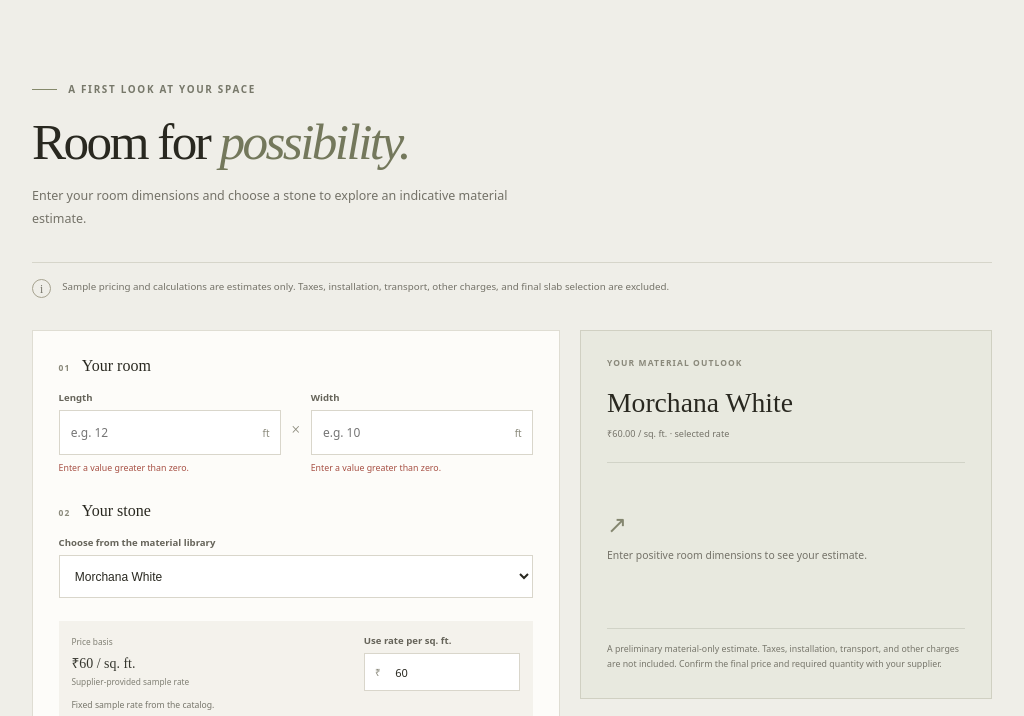
stone discovery dashboard › estimates room material cost from catalog stones and selected range rates
(page scrolled)
Expected: the text "Enter positive room dimensions to see your estimate." is shown, 607,547 -> 867,564
Type "12" into the number field named "Room length in feet" at (156, 433), box 60,411 -> 252,454
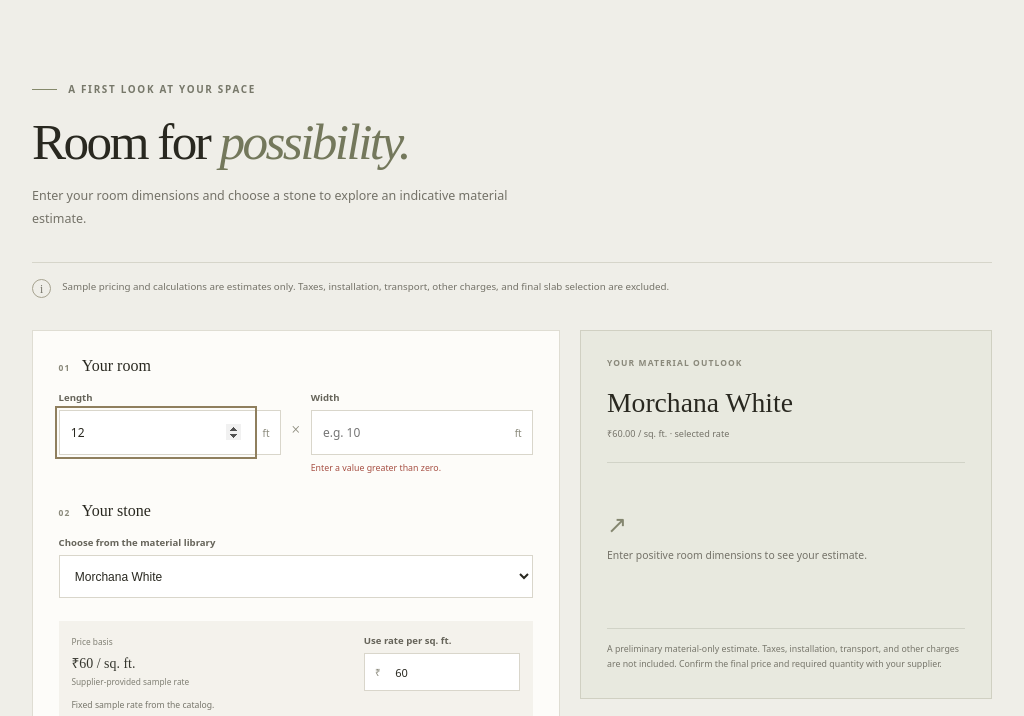
Type "10" into the number field named "Room width in feet" at (408, 433), box 312,411 -> 504,454
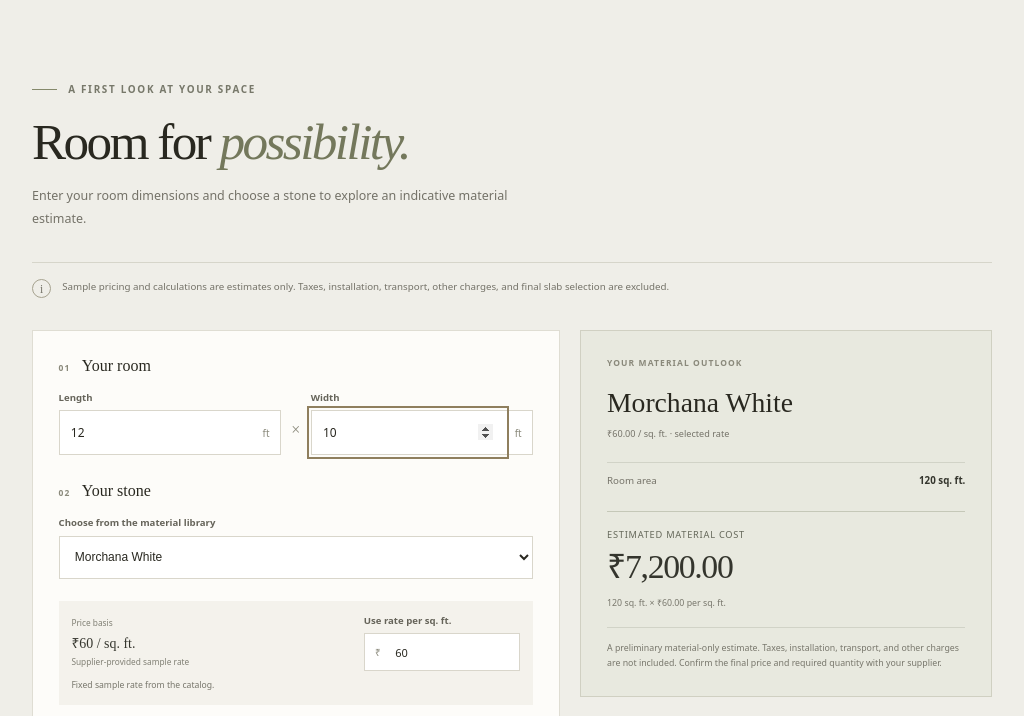
Expected: the element named "Room estimate result" shows "120 sq. ft.", 580,330 -> 992,697
Expected: the element named "Room estimate result" shows "₹7,200", 607,548 -> 732,585
Select "Rajnagar White" in the dropdown named "Stone for room estimate" at (296, 557), box 59,536 -> 533,578
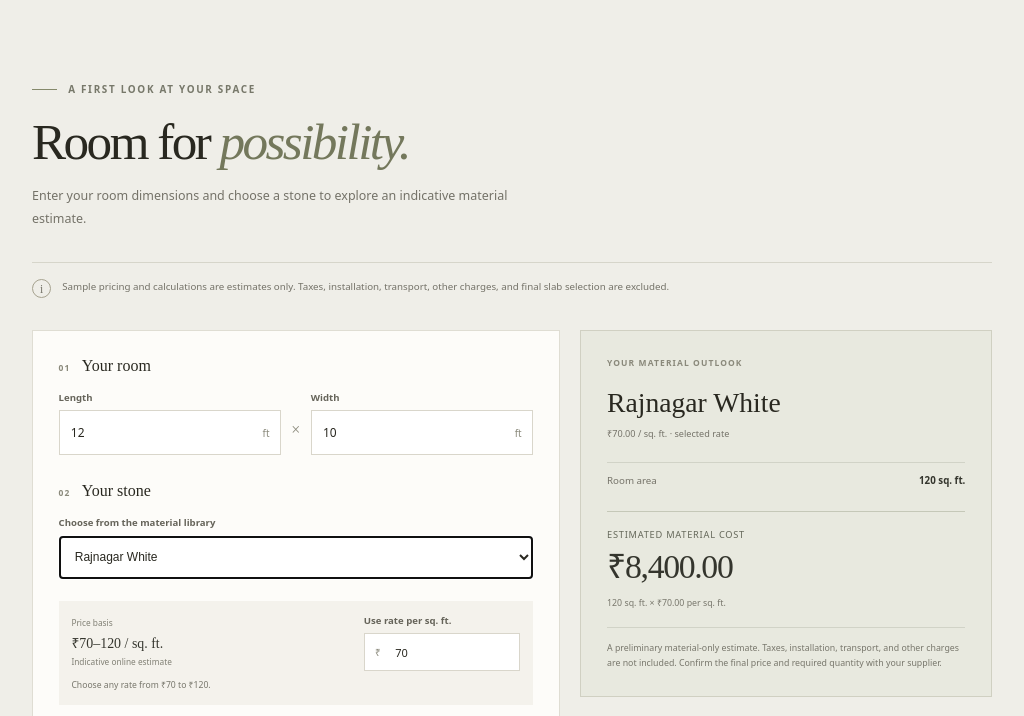
Replace the text in the number field named "Selected rate per square foot" with "100" at (455, 652), box 391,634 -> 519,670
(page scrolled)
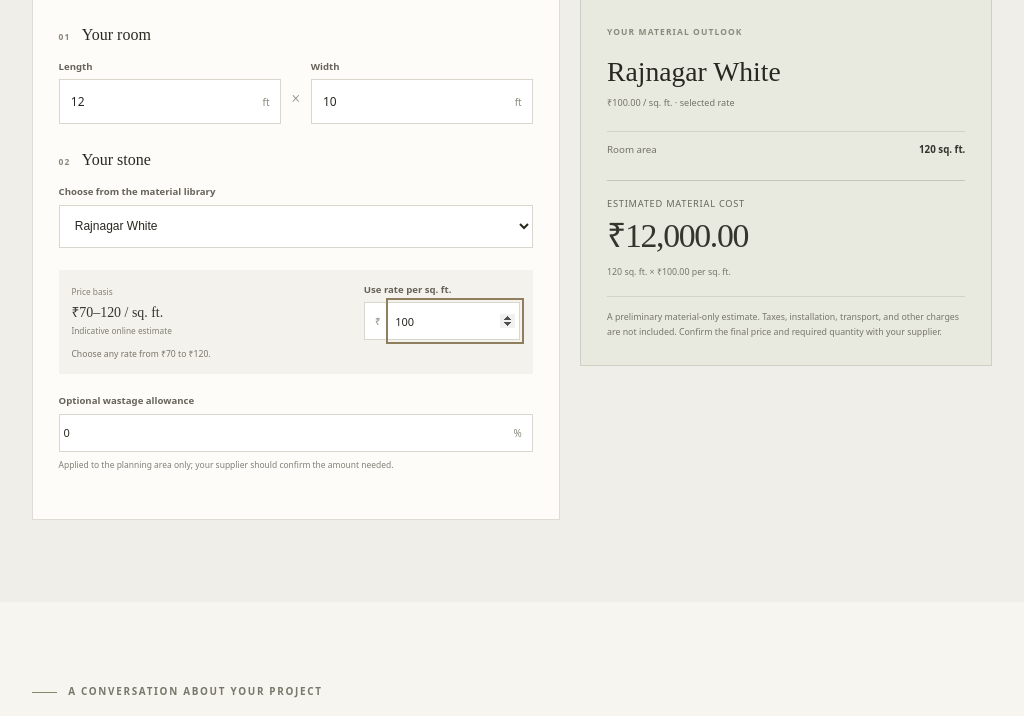
Expected: the element named "Room estimate result" shows "Rajnagar White", 607,56 -> 781,88
Expected: the element named "Room estimate result" shows "₹12,000", 607,217 -> 748,254
Replace the text in the number field named "Wastage allowance percent" with "10" at (281, 433), box 60,415 -> 503,451
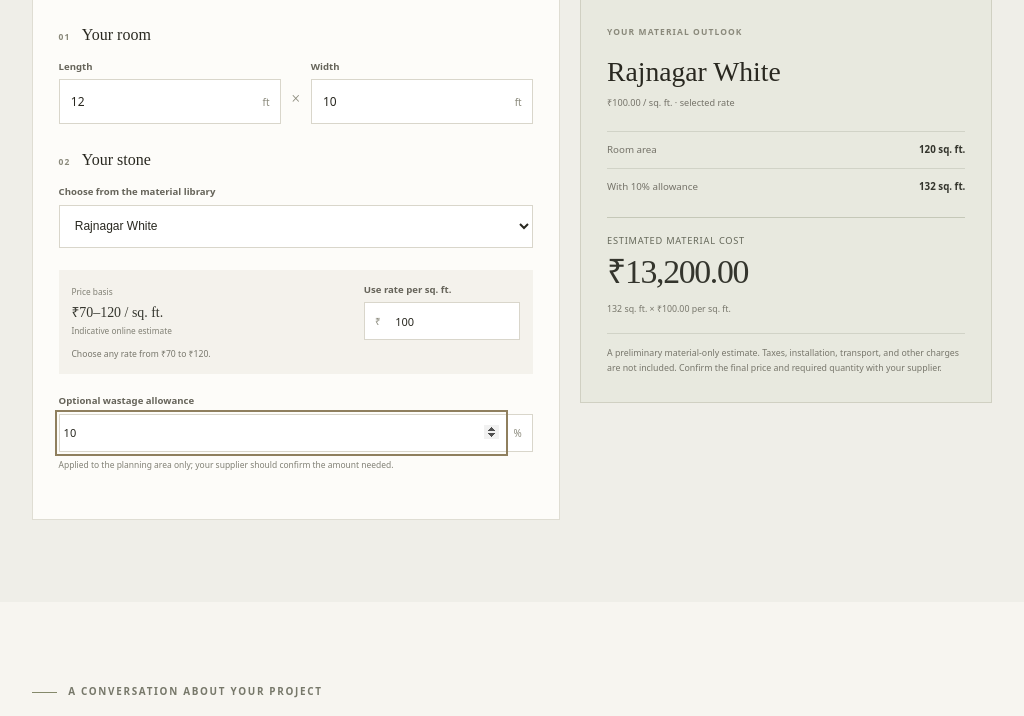
Expected: the text "Taxes, installation, transport, and other charges are not included" is shown, 607,347 -> 959,374
Expected: the element named "Room estimate result" shows "132 sq. ft.", 580,0 -> 992,403
Expected: the element named "Room estimate result" shows "₹13,200", 607,253 -> 748,290
